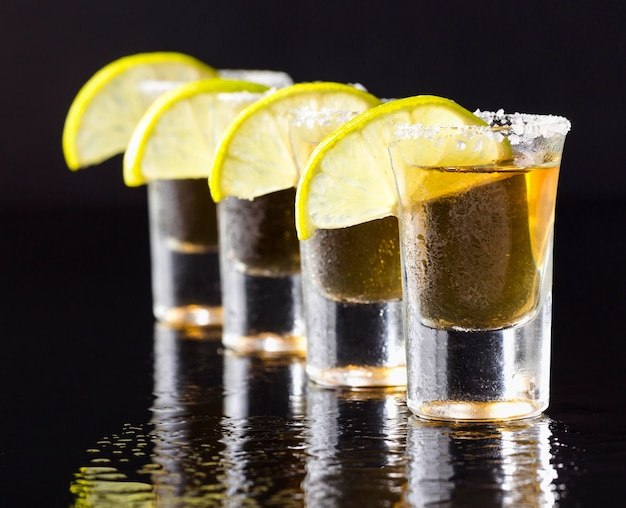alcohol: (388, 96, 573, 429), (280, 101, 444, 392), (206, 97, 361, 360), (137, 73, 279, 330)
